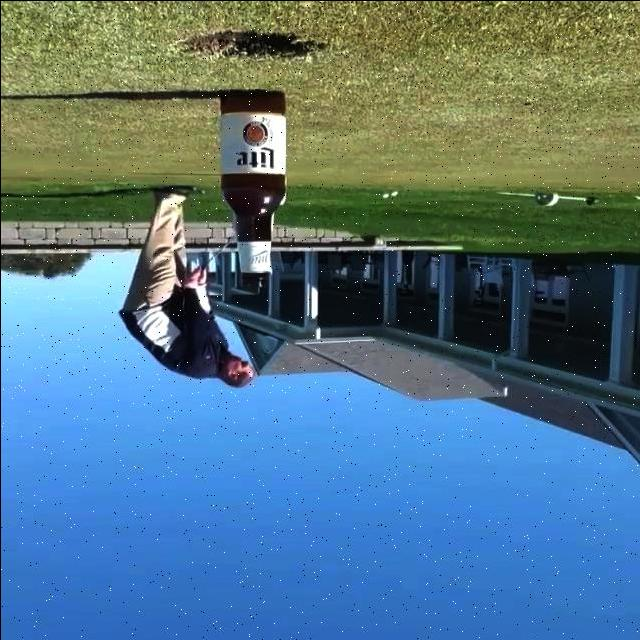ClubHandle: (197, 233, 236, 276)
GolfBall: (379, 191, 388, 197), (389, 190, 397, 195)
